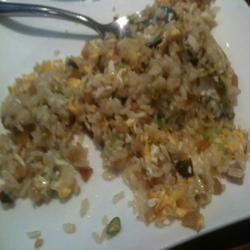rice: (48, 13, 242, 185)
